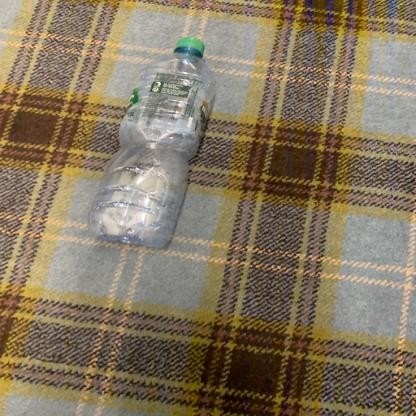trash: (86, 39, 213, 249)
